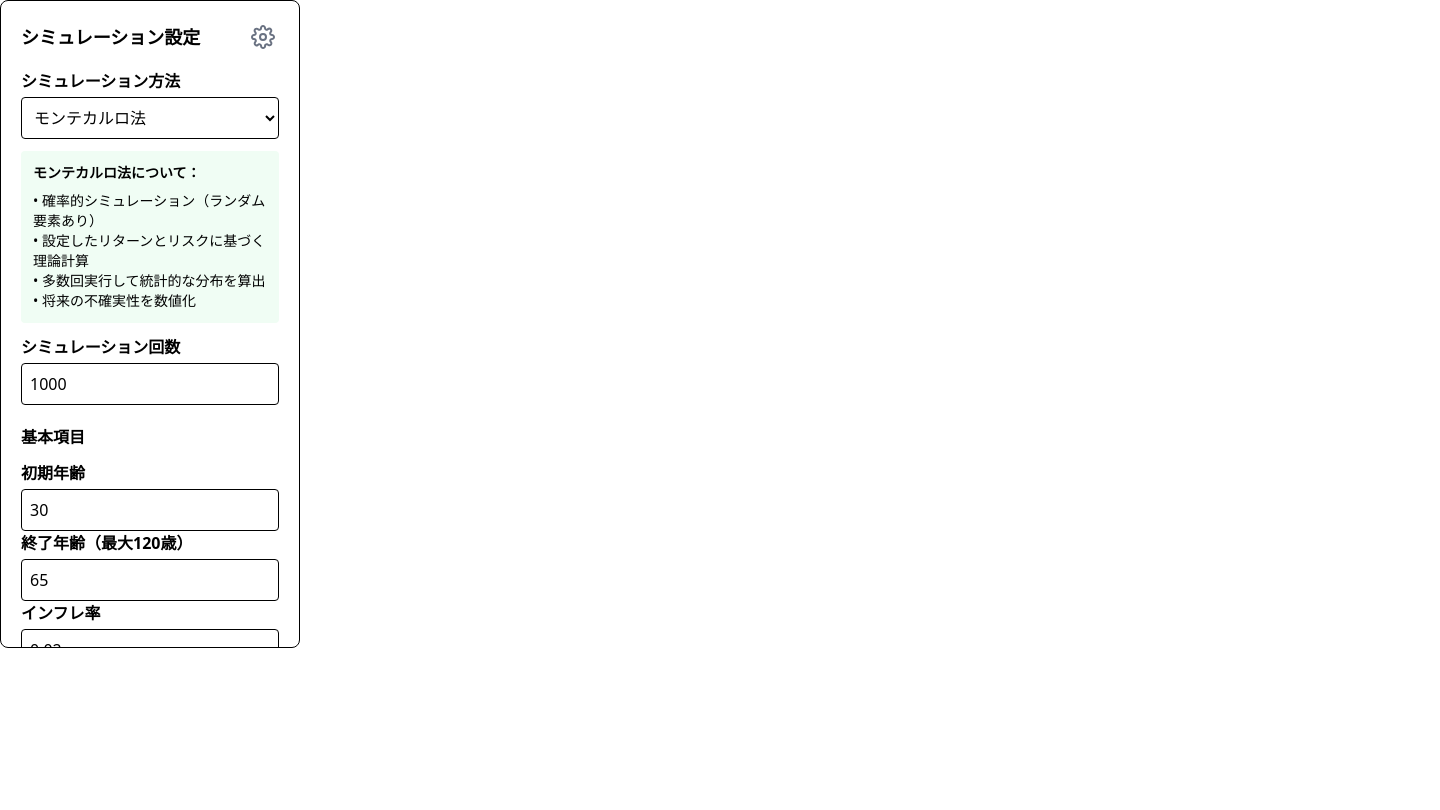
Scenario: InputPanel Additional Coverage › closes settings modal
# Open modal
What coordinates should you click on to do the following:
click the button named "設定を開く"
I would click on:
 (263, 37)
Its box is [247,21,279,53].
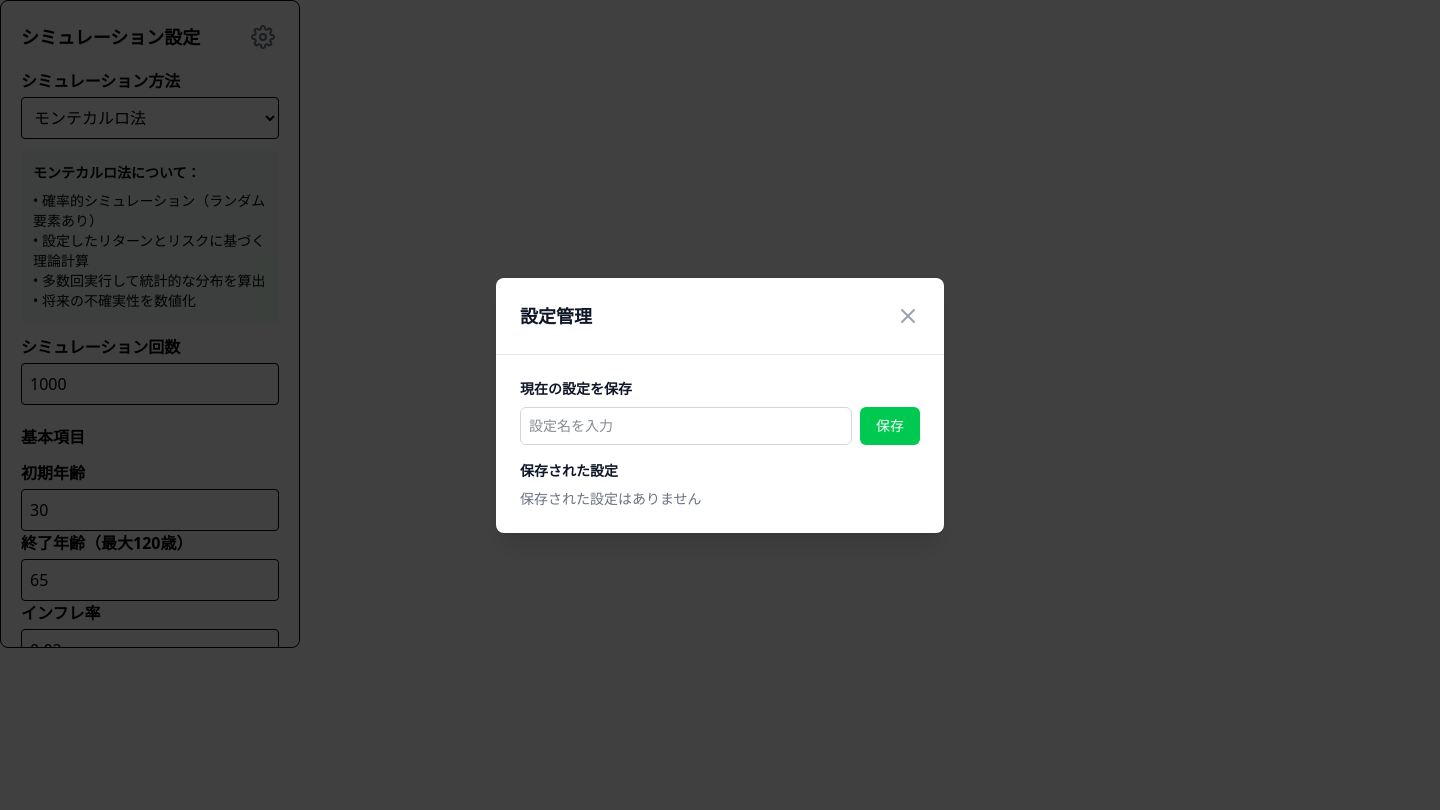
Check: the heading "設定管理" is shown, box [520,302,592,330]
# Close modal
What coordinates should you click on to do the following:
click the button named "モーダルを閉じる"
I would click on:
 (908, 316)
Its box is [896,304,920,328].
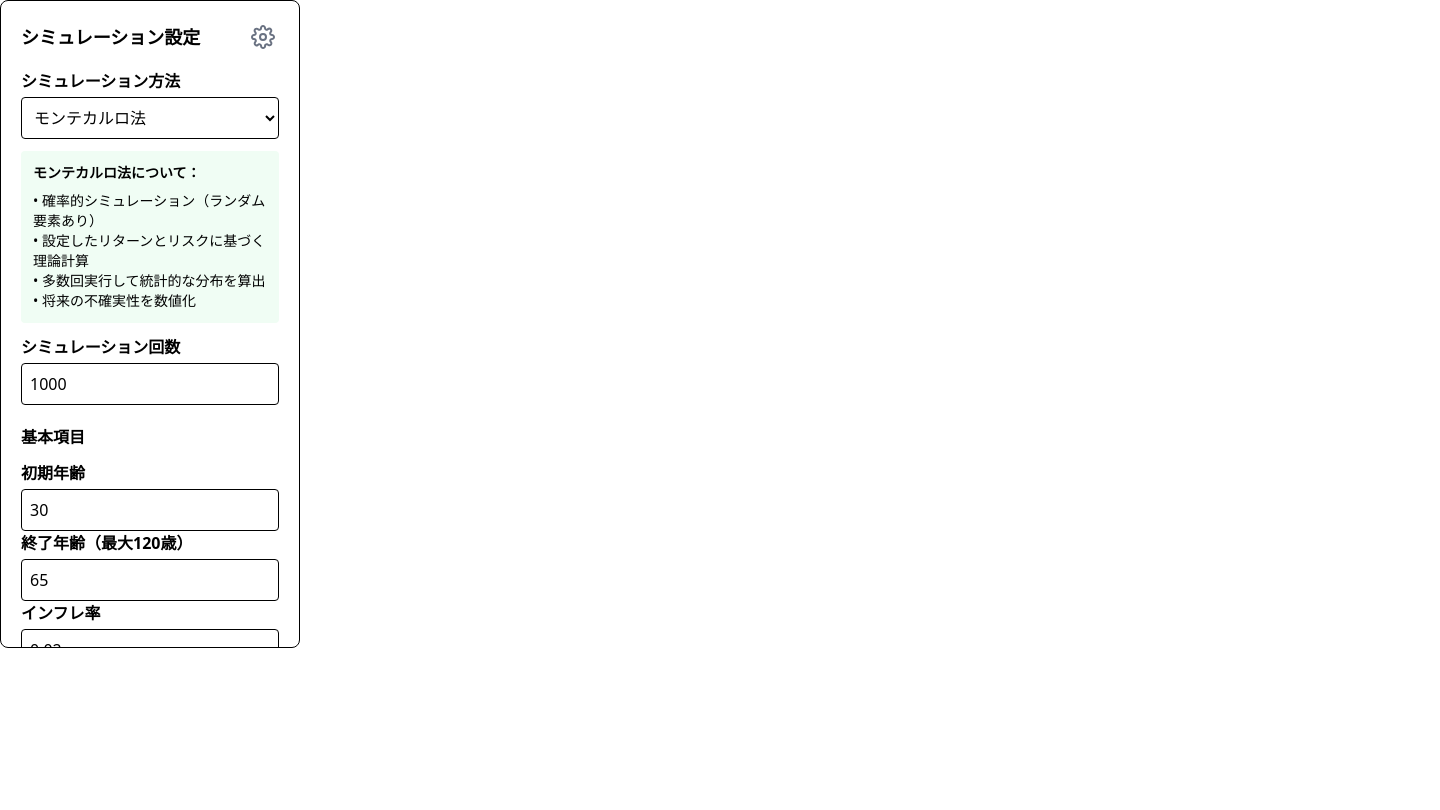
Check: the heading "設定管理" is gone
